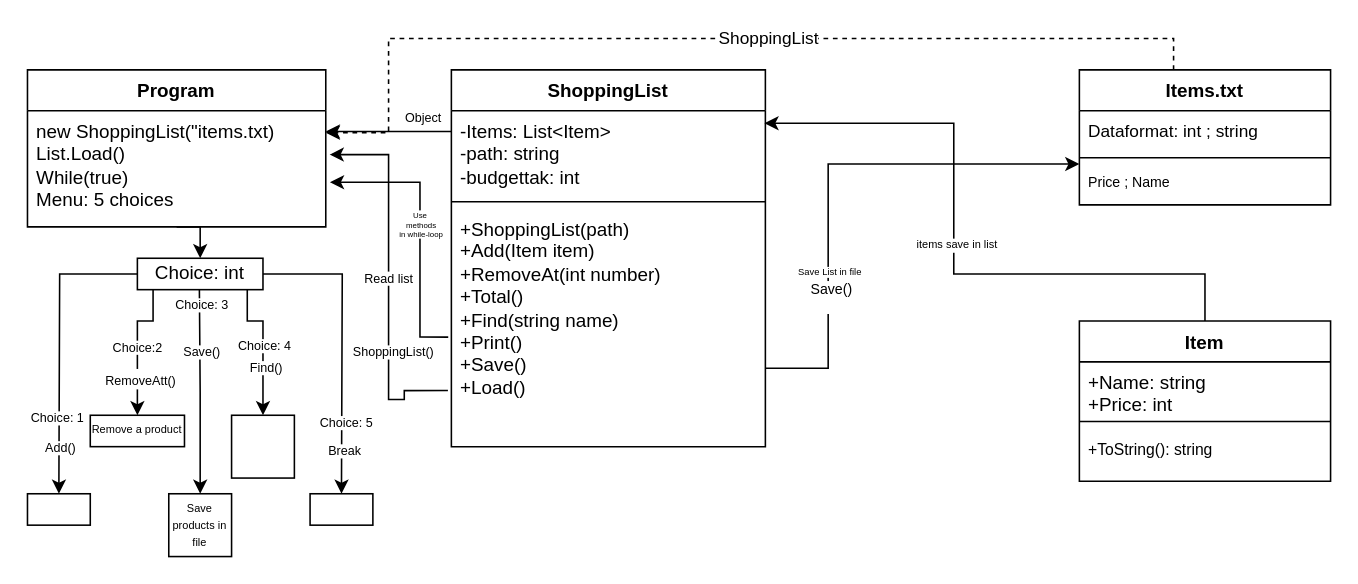
This 1358x584 diagram has some shape labels left out. Here are the shapes that lost their labels. From the top down, the centre of each, then its label:
At (x=262, y=446): "Find a product by name".
At (x=58, y=508): "Add a product".
At (x=341, y=508): "Close program".
